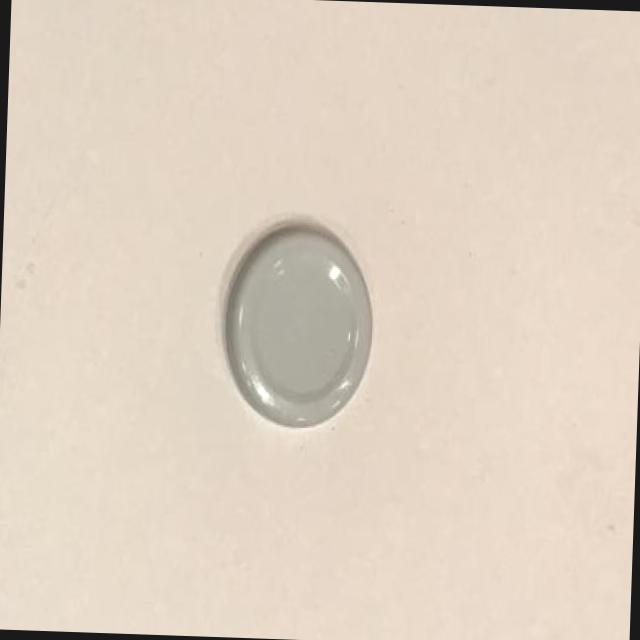kim_loai: (224, 228, 371, 427)
